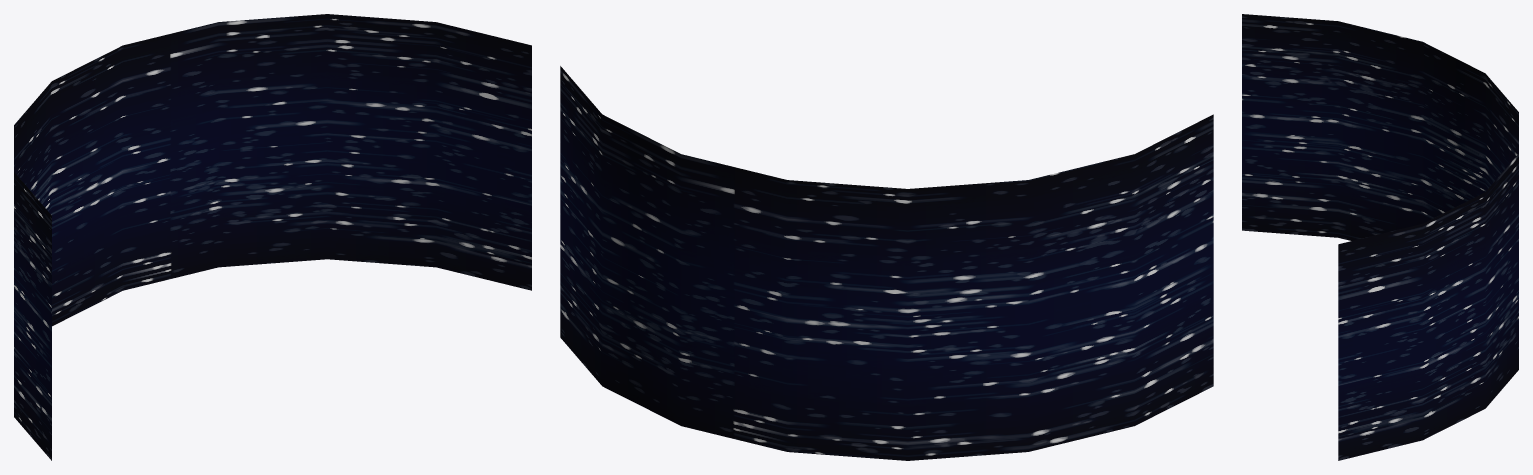
Rendered from FondoEspacial.fbx.
The picture shows the model from 3 angles, left to right: view 1: azimuth 30°, elevation 25°; view 2: azimuth 150°, elevation 25°; view 3: azimuth 270°, elevation 25°; orthographic projection. The views are drawn at different scales.
Visible parts, largest first — view 1: Cylinder001; view 2: Cylinder001; view 3: Cylinder001.
Boxes of the visible parts, x1,y1,x2,y2 form: Cylinder001: (14, 14, 531, 460); Cylinder001: (560, 66, 1213, 460); Cylinder001: (1242, 14, 1518, 460).
Bounding box in the file's own units: 79.94 × 35.06 × 40.59.
1 material, 1 textured.
